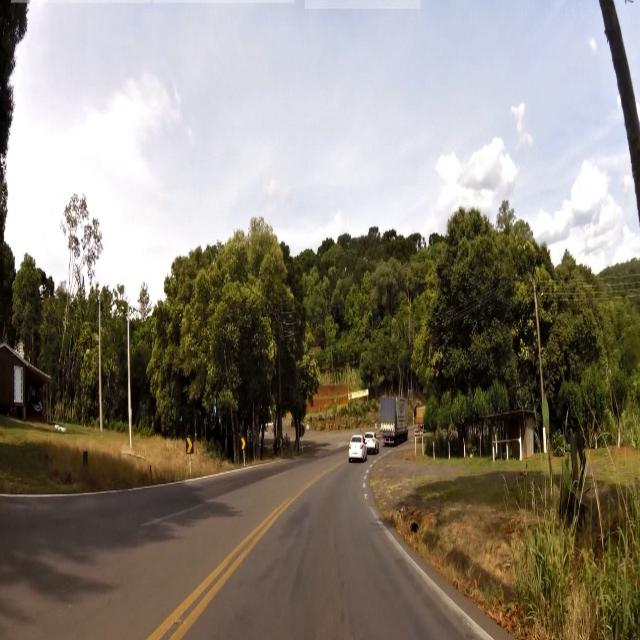Del: (186, 436, 194, 454), (240, 436, 247, 450)
